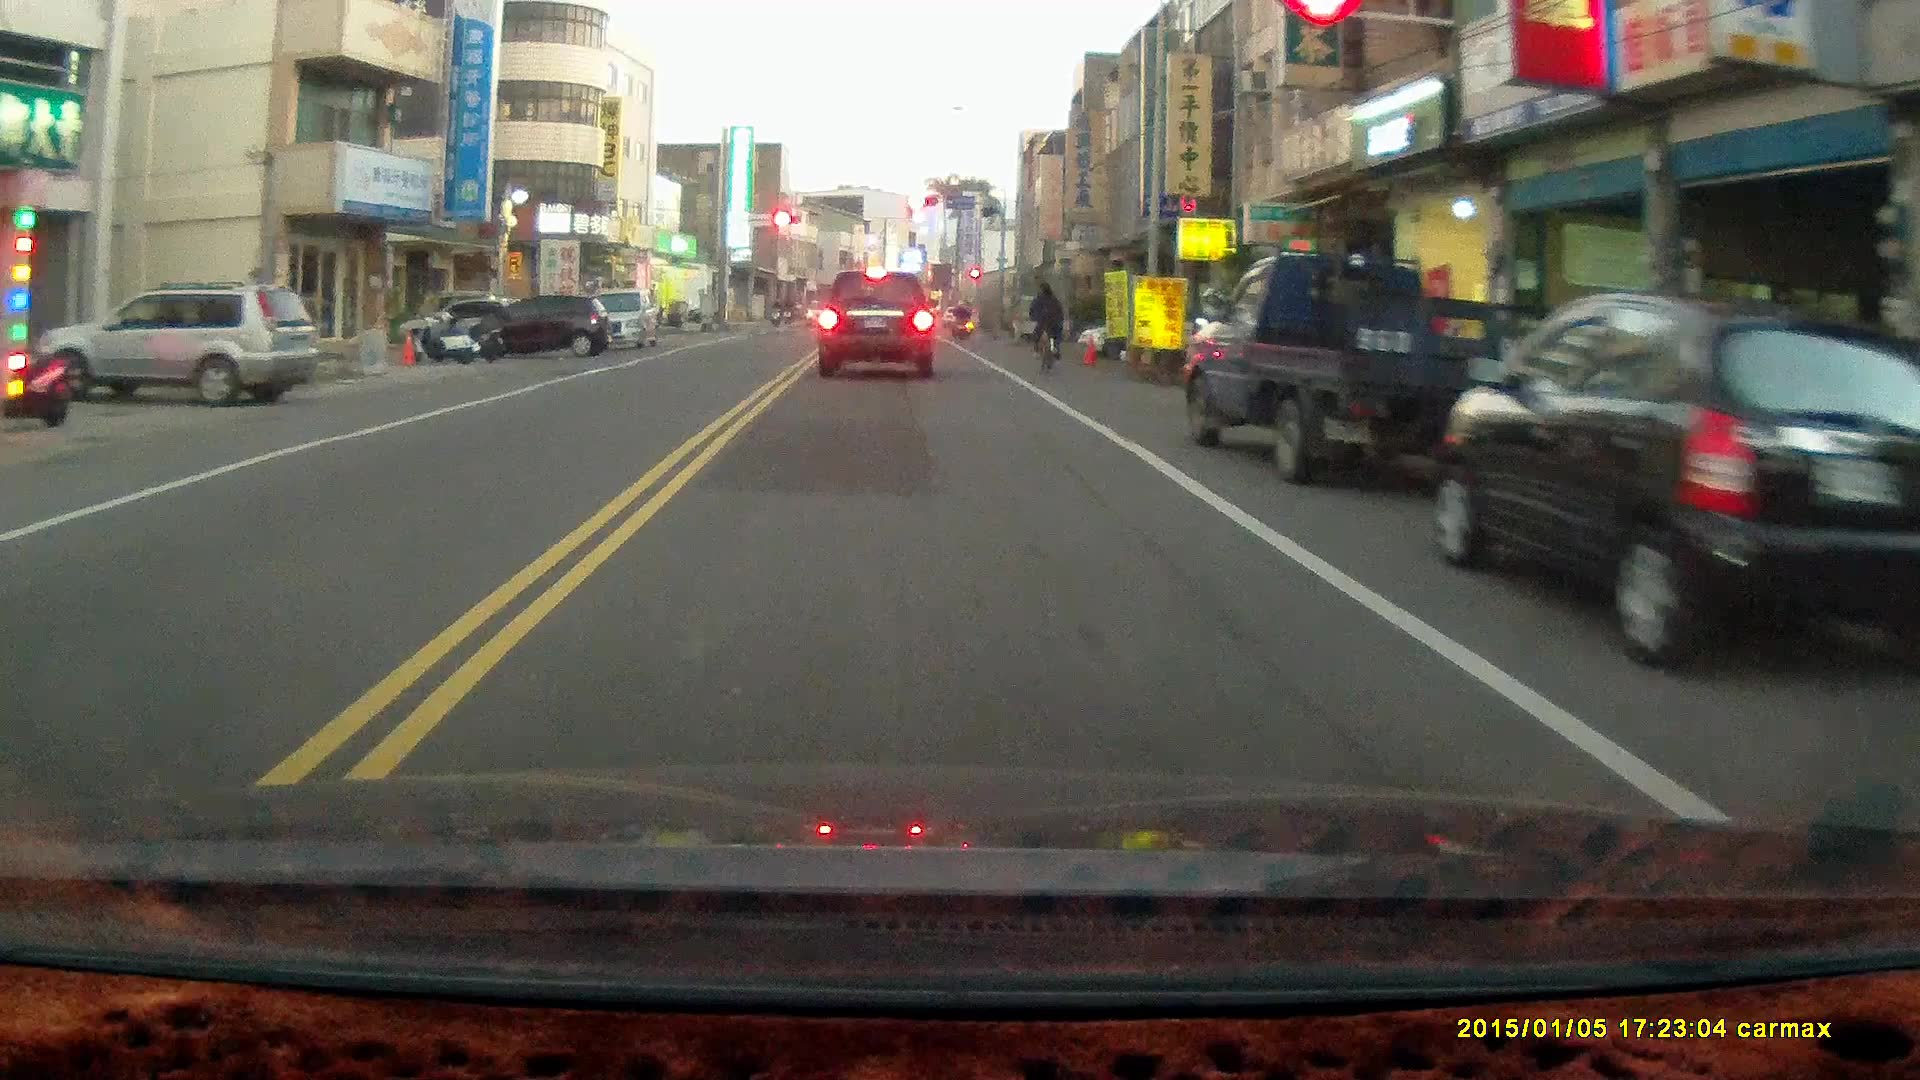rider: (1026, 274, 1066, 375)
vehicle: (1439, 290, 1920, 669), (1178, 245, 1555, 474), (33, 274, 318, 409), (817, 264, 938, 379), (467, 293, 618, 358), (565, 284, 665, 354)
